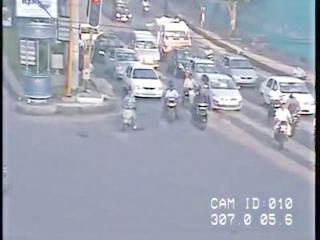Car: (263, 75, 316, 114), (198, 74, 243, 110), (155, 16, 192, 57), (125, 30, 160, 69), (124, 65, 164, 98), (219, 54, 258, 85), (186, 57, 223, 86), (107, 48, 138, 79), (93, 33, 124, 62), (169, 48, 194, 77), (80, 24, 102, 47), (113, 0, 133, 23)
Motor: (273, 102, 293, 144), (120, 86, 137, 132), (192, 82, 209, 123), (164, 84, 180, 119), (183, 73, 198, 107), (268, 87, 283, 119), (286, 95, 300, 128), (292, 65, 308, 79), (203, 46, 214, 60), (141, 0, 150, 13)
